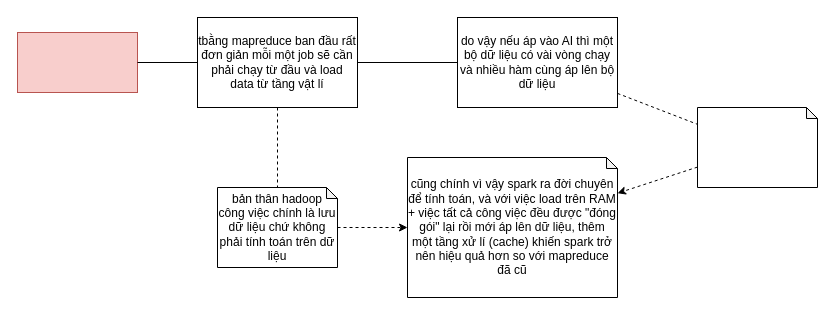
Image size: 835x315. Some labels were removed from this diagram. Each missing label, with the box of its shape:
spark vs mapreduce: (16, 32, 138, 92)
từ đó có thể thấy nếu chỉ dùng mapreduce thì hiệu suất quả là thấp: (696, 106, 818, 188)
